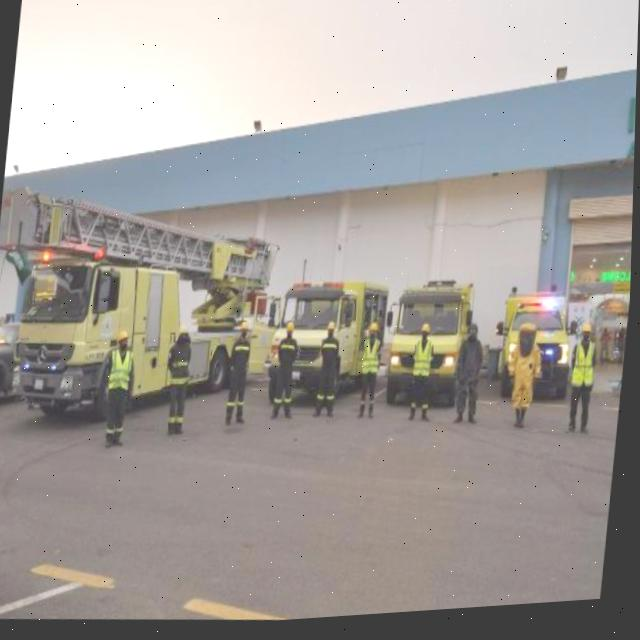emergency: (0, 167, 291, 445), (259, 271, 395, 429), (378, 275, 486, 424), (492, 274, 586, 423)
